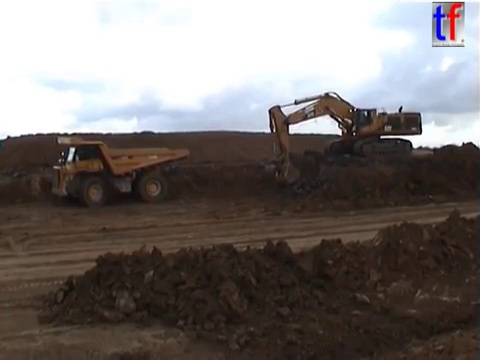excavator: (263, 89, 424, 188)
truck: (49, 134, 190, 207)
